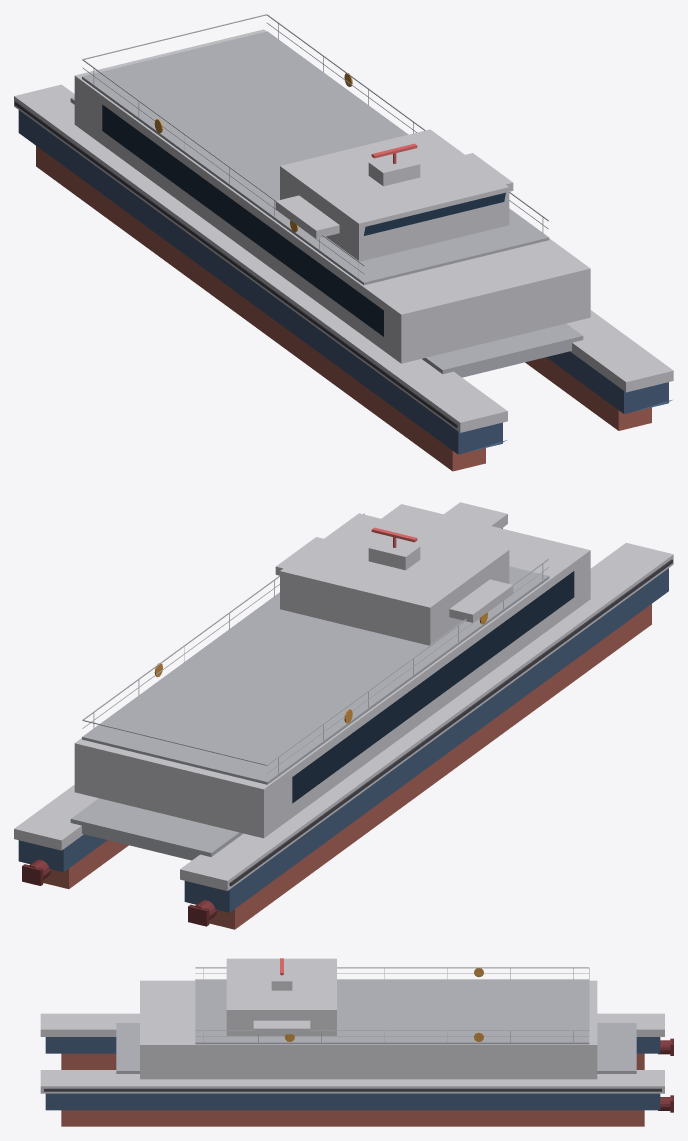
File: golden_gate_ferry_lod0.glb
The picture shows the model from 3 angles, top to bottom: view 1: azimuth 30°, elevation 25°; view 2: azimuth 150°, elevation 25°; view 3: azimuth 270°, elevation 25°; orthographic projection. The views are drawn at different scales.
Visible parts, largest first — view 1: Ferry_Hull, Ferry_Glass; view 2: Ferry_Hull, Ferry_Glass, Waterjets; view 3: Ferry_Hull, Waterjets.
Part boxes in pixels (bbox=[...]): Ferry_Hull: bbox=[14, 14, 673, 471]; Ferry_Glass: bbox=[102, 104, 505, 336]; Ferry_Hull: bbox=[14, 502, 673, 929]; Ferry_Glass: bbox=[292, 571, 574, 803]; Waterjets: bbox=[22, 859, 217, 926]; Ferry_Hull: bbox=[40, 958, 664, 1126]; Waterjets: bbox=[658, 1038, 673, 1112].
Bounding box in the file's own units: 11.08 × 8.91 × 41.87.
